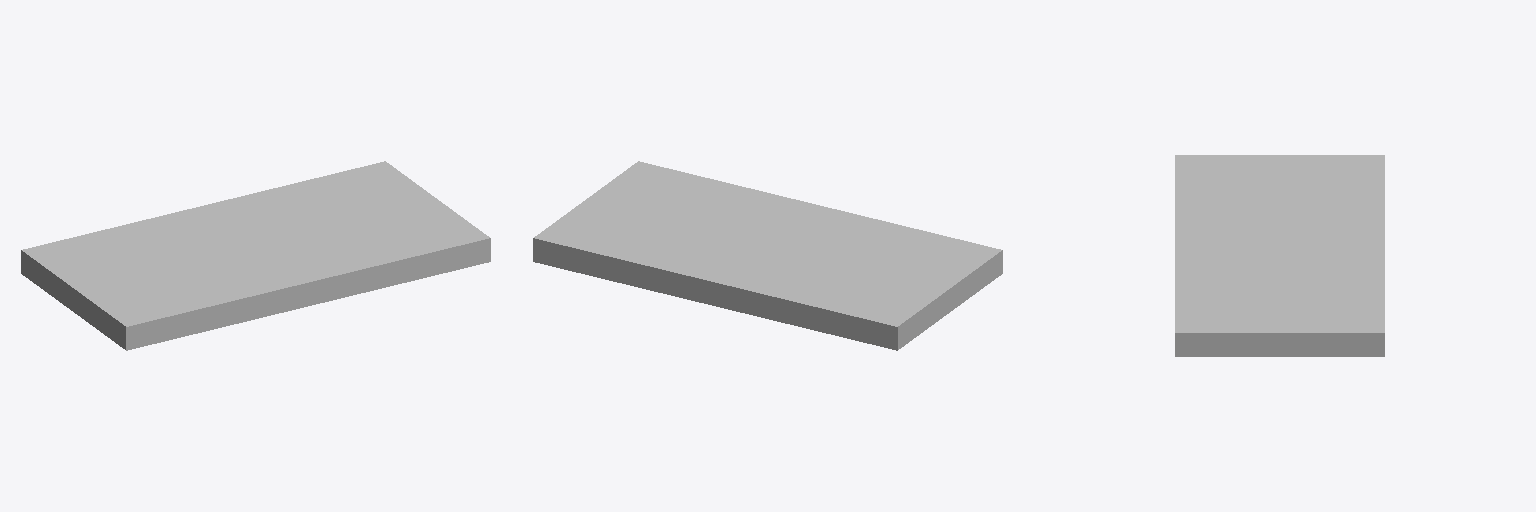
The model's file is Block_16x8x1.obj.
3 views of the same model, side by side, from view 1: azimuth 30°, elevation 25°; view 2: azimuth 150°, elevation 25°; view 3: azimuth 270°, elevation 25° (orthographic).
Visible parts, largest first — view 1: Block_16x8x1_Cube.264; view 2: Block_16x8x1_Cube.264; view 3: Block_16x8x1_Cube.264.
Boxes of the visible parts, <box> form: Block_16x8x1_Cube.264: <box>21,161,490,350</box>; Block_16x8x1_Cube.264: <box>533,161,1002,350</box>; Block_16x8x1_Cube.264: <box>1175,155,1384,356</box>.
Bounding box in the file's own units: 16 × 1 × 8.